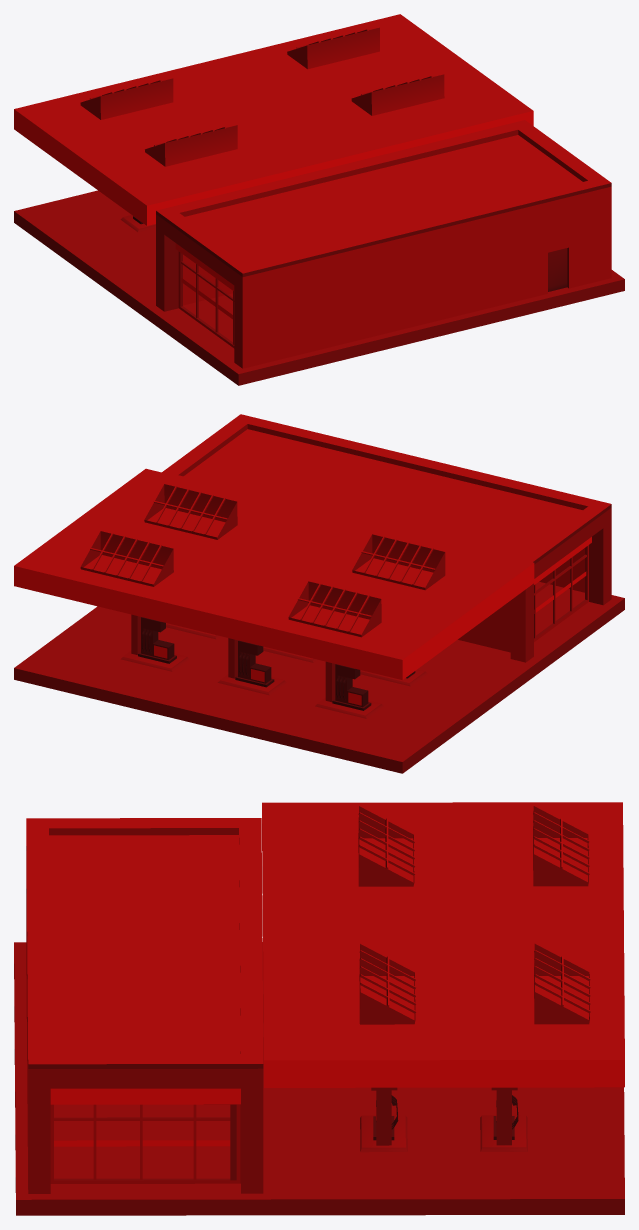
The picture shows the model from 3 angles, top to bottom: view 1: azimuth 30°, elevation 25°; view 2: azimuth 150°, elevation 25°; view 3: azimuth 270°, elevation 25°; orthographic projection. The views are drawn at different scales.
Parts seen in each view (by area): view 1: base.082; view 2: base.082; view 3: base.082.
Boxes of the visible parts, bbox=[...] form: base.082: bbox=[14, 14, 624, 385]; base.082: bbox=[14, 414, 624, 773]; base.082: bbox=[14, 802, 624, 1215].
Bounding box in the file's own units: 2309 × 2311 × 787.
